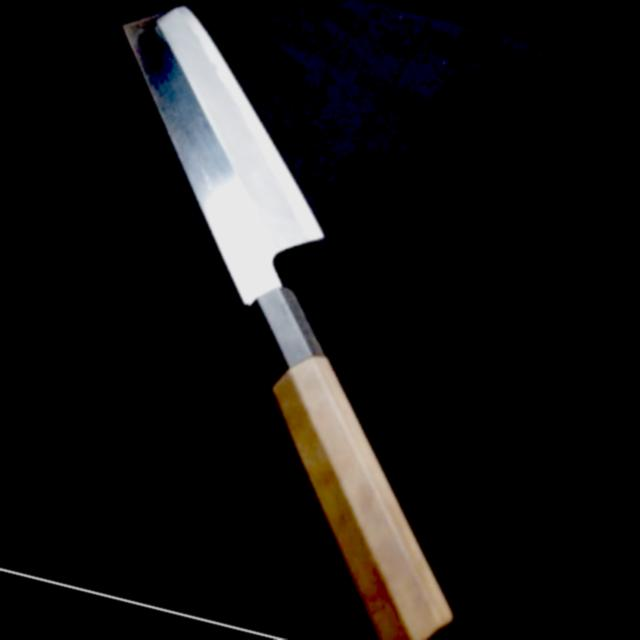knife: (120, 0, 528, 640)
